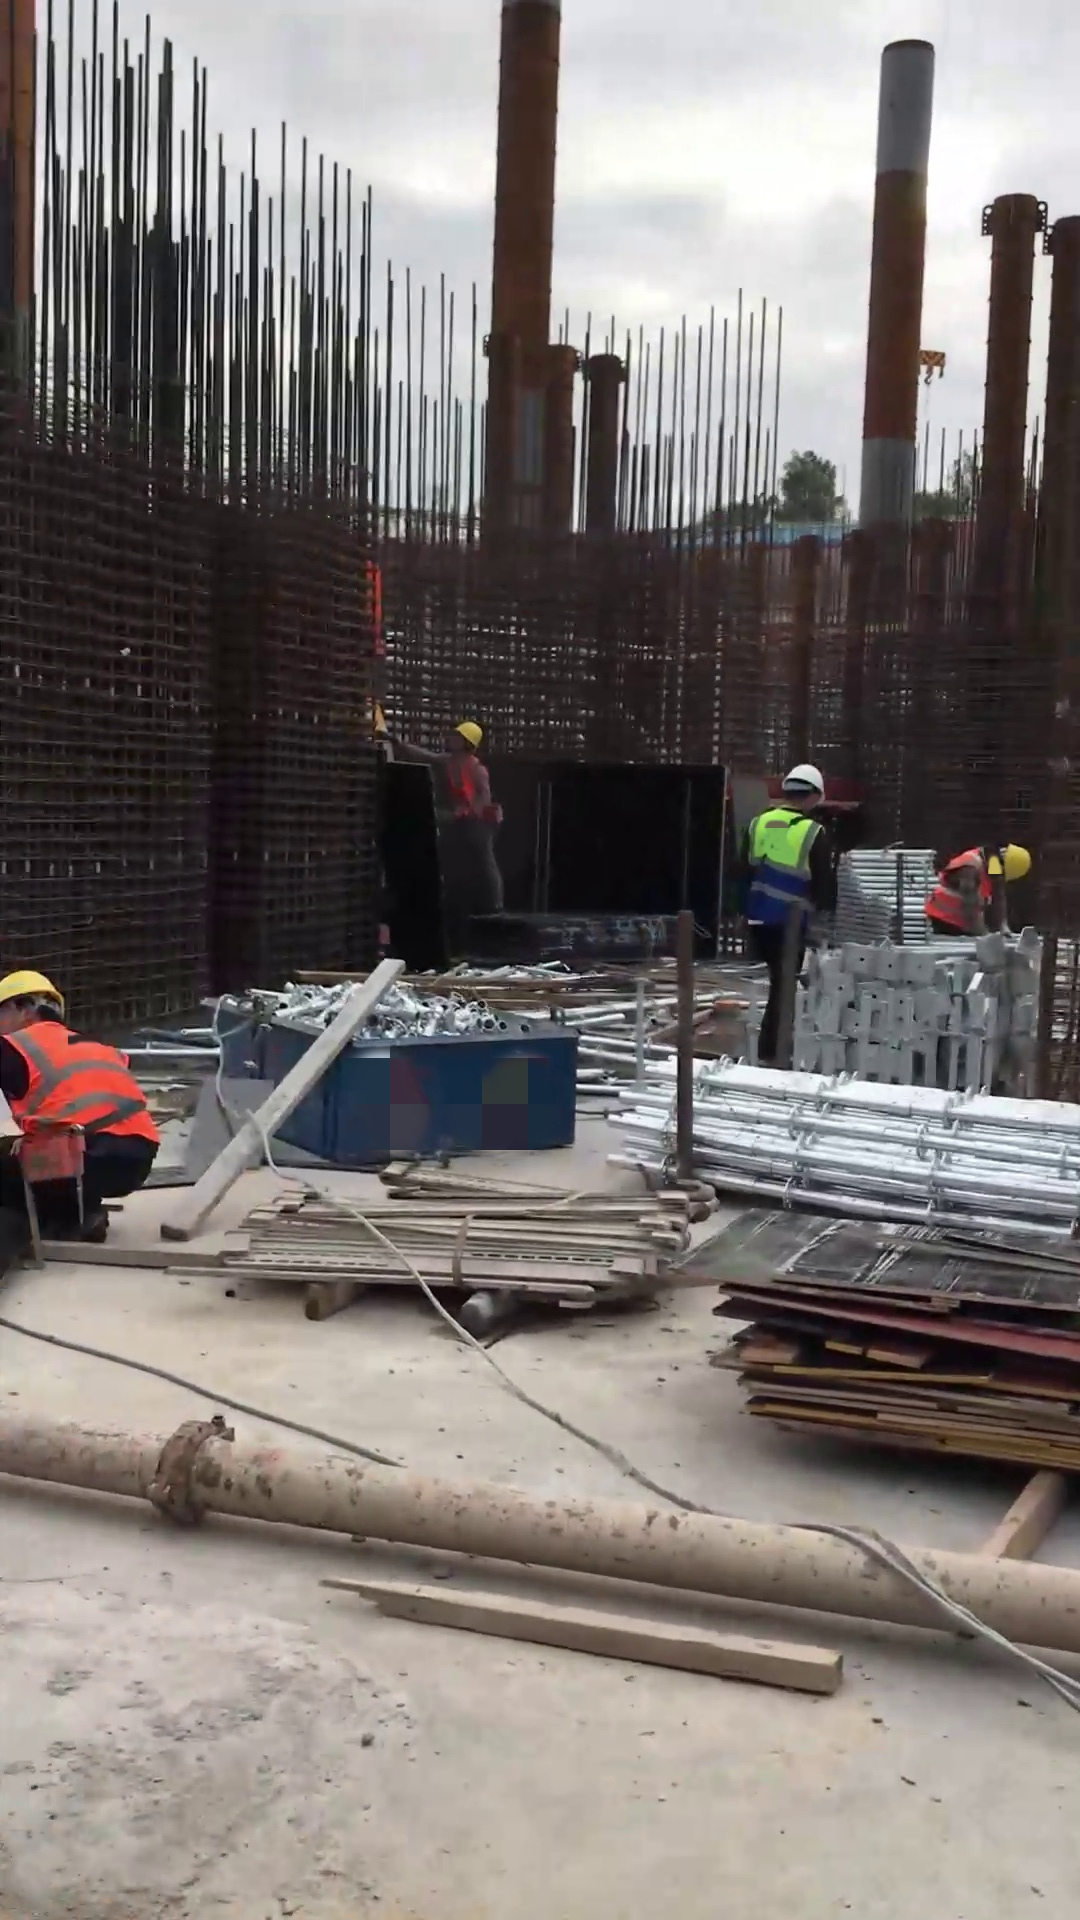board: (695, 1211, 1080, 1472)
helmet: (1, 968, 74, 1016), (776, 761, 828, 798), (996, 838, 1032, 886), (449, 718, 485, 752)
hook: (912, 345, 947, 388)
hopper: (201, 991, 584, 1172)
person: (1, 965, 164, 1248), (735, 759, 841, 1065), (391, 717, 510, 916), (922, 839, 1033, 938)
scaffold: (612, 1051, 1080, 1241), (830, 846, 944, 947)
vest: (1, 1018, 162, 1148), (741, 809, 825, 930), (925, 844, 994, 930), (432, 753, 486, 825)
